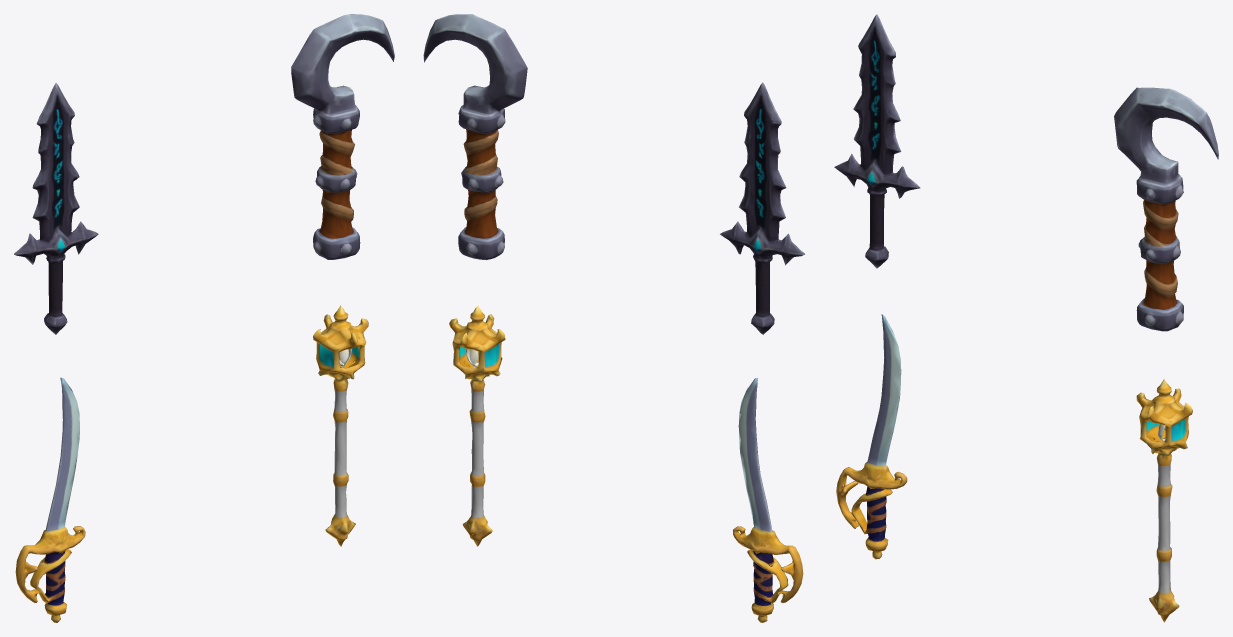
The picture shows the model from 3 angles, left to right: view 1: azimuth 30°, elevation 25°; view 2: azimuth 150°, elevation 25°; view 3: azimuth 330°, elevation 25°; orthographic projection.
Visible parts, largest first — view 1: world; view 2: world; view 3: world.
Part boxes in pixels (box(x1,y1,x2,y2)): world: box(14, 14, 394, 622); world: box(423, 14, 804, 622); world: box(834, 14, 1218, 622).
Size of the model in its own units: 0.7371 by 0.9984 by 0.112.
1 material, 1 textured.
